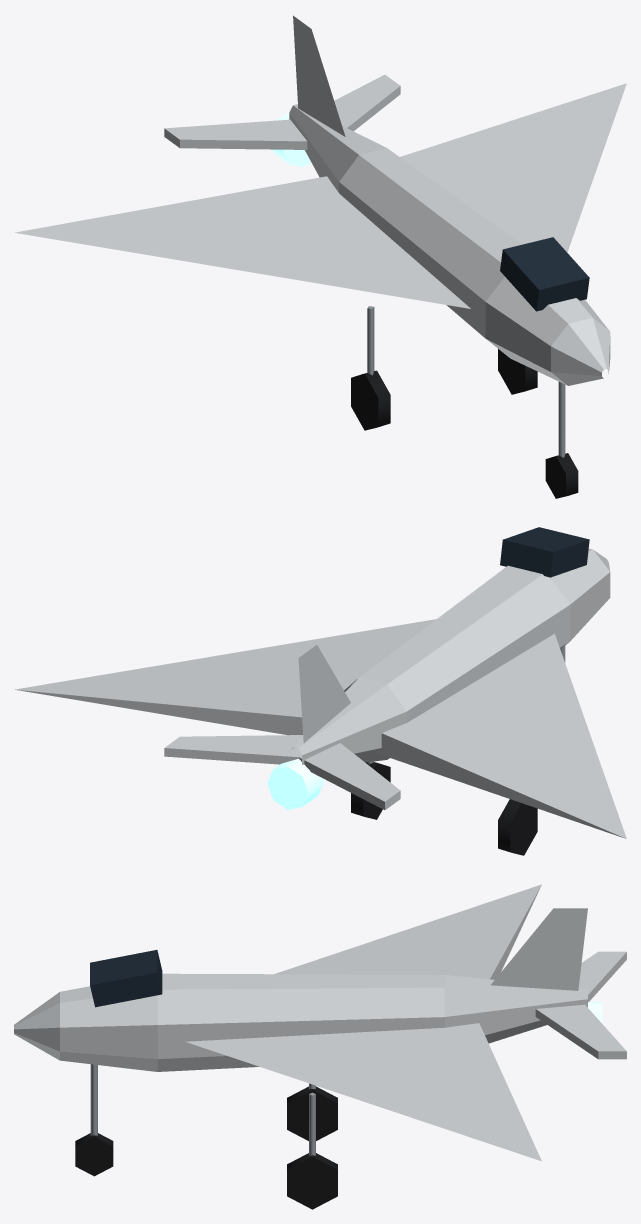
File: veh_air_fighter_a09.glb
3 views of the same model, one above another, from view 1: azimuth 30°, elevation 25°; view 2: azimuth 150°, elevation 25°; view 3: azimuth 270°, elevation 25° (orthographic). The views are drawn at different scales.
Parts seen in each view (by area): view 1: body, gear_1, gear_0, gear_2; view 2: body, gear_1, gear_2; view 3: body, gear_2, gear_1, gear_0.
Part boxes in pixels (left/top/right/bottom): body: left=15, top=15, right=626, bottom=385; gear_1: left=351, top=306, right=390, bottom=430; gear_0: left=545, top=382, right=578, bottom=498; gear_2: left=498, top=349, right=537, bottom=394; body: left=15, top=527, right=626, bottom=838; gear_1: left=498, top=799, right=537, bottom=855; gear_2: left=351, top=761, right=390, bottom=819; body: left=14, top=884, right=626, bottom=1161; gear_2: left=287, top=1092, right=337, bottom=1209; gear_1: left=287, top=1083, right=337, bottom=1140; gear_0: left=75, top=1064, right=113, bottom=1176.
Size of what is drawn, in the model's own units: 8.96 by 4.02 by 8.37.
